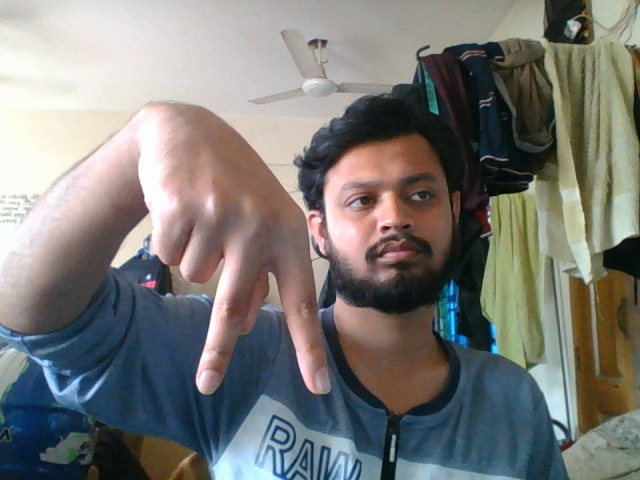pa: (136, 102, 341, 414)
